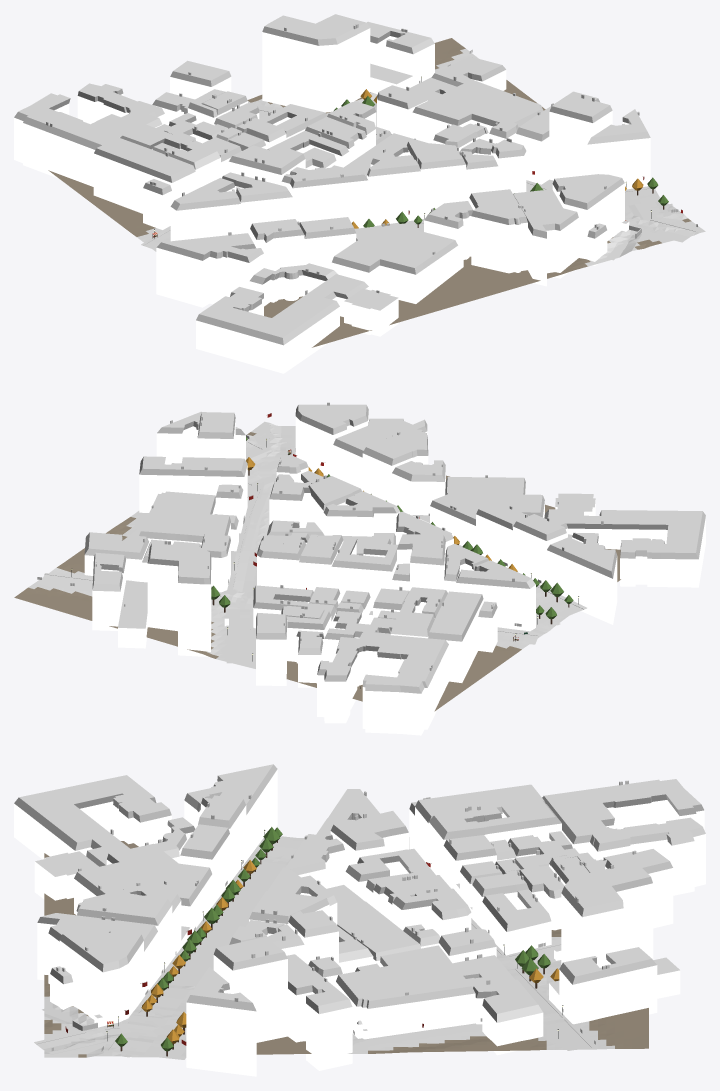
File: zone_F1.glb
The picture shows the model from 3 angles, top to bottom: view 1: azimuth 30°, elevation 25°; view 2: azimuth 150°, elevation 25°; view 3: azimuth 270°, elevation 25°; orthographic projection. The views are drawn at different scales.
Visible parts, largest first — view 1: zone_F1_batiments, zone_F1_terrain, zone_F1_sol_NOCOL, zone_F1_decor_NOCOL; view 2: zone_F1_batiments, zone_F1_sol_NOCOL, zone_F1_terrain, zone_F1_decor_NOCOL; view 3: zone_F1_batiments, zone_F1_sol_NOCOL, zone_F1_terrain, zone_F1_decor_NOCOL.
Part boxes in pixels (left/top/right/bottom): zone_F1_batiments: left=14, top=14, right=650, bottom=373; zone_F1_terrain: left=48, top=38, right=705, bottom=347; zone_F1_sol_NOCOL: left=141, top=56, right=697, bottom=260; zone_F1_decor_NOCOL: left=154, top=76, right=668, bottom=232; zone_F1_batiments: left=84, top=402, right=705, bottom=735; zone_F1_sol_NOCOL: left=41, top=424, right=586, bottom=663; zone_F1_terrain: left=14, top=421, right=620, bottom=711; zone_F1_decor_NOCOL: left=71, top=437, right=578, bottom=688; zone_F1_batiments: left=14, top=764, right=705, bottom=1076; zone_F1_sol_NOCOL: left=34, top=836, right=594, bottom=1059; zone_F1_terrain: left=44, top=837, right=648, bottom=1057; zone_F1_decor_NOCOL: left=106, top=827, right=563, bottom=1056.
Bounding box in the file's own units: 240 × 47.2 × 244.
